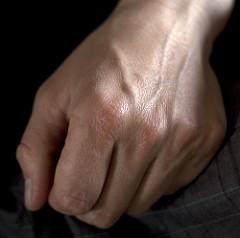fist: (21, 70, 232, 214)
